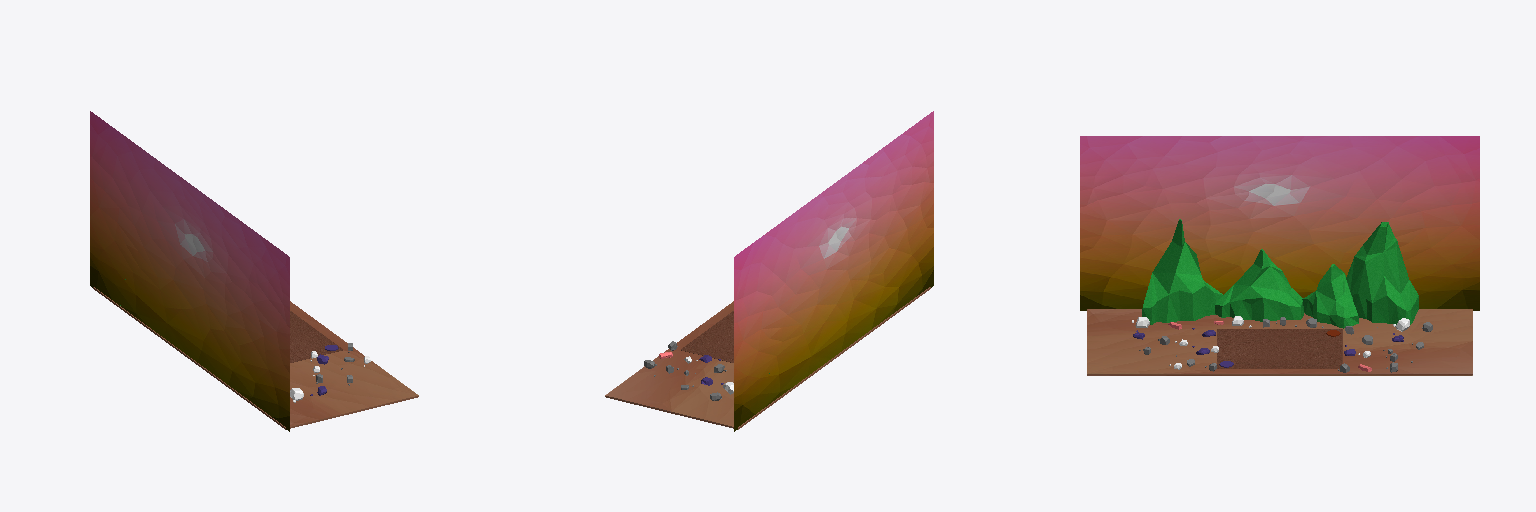
3 views of the same model, side by side, from view 1: azimuth 30°, elevation 25°; view 2: azimuth 150°, elevation 25°; view 3: azimuth 270°, elevation 25° (orthographic).
Visible parts, largest first — view 1: pCube9, pCube1, pCube8; view 2: pCube9, pCube1, pCube8; view 3: pCube9, pCube1, pCube4, pCube8, pCube5, pCube2, pCube3.
Boxes of the visible parts, <box> form: pCube9: <box>90,111,289,431</box>; pCube1: <box>93,287,418,429</box>; pCube8: <box>290,311,342,362</box>; pCube9: <box>734,111,933,431</box>; pCube1: <box>605,287,930,429</box>; pCube8: <box>681,311,733,362</box>; pCube9: <box>1080,136,1479,310</box>; pCube1: <box>1087,309,1472,375</box>; pCube4: <box>1346,222,1418,324</box>; pCube8: <box>1217,329,1342,368</box>; pCube5: <box>1142,219,1222,324</box>; pCube2: <box>1215,249,1303,321</box>; pCube3: <box>1302,264,1358,328</box>.
Size of the model in its own units: 57.72 by 73.03 by 150.
Materials: 13 (4 with a texture image).